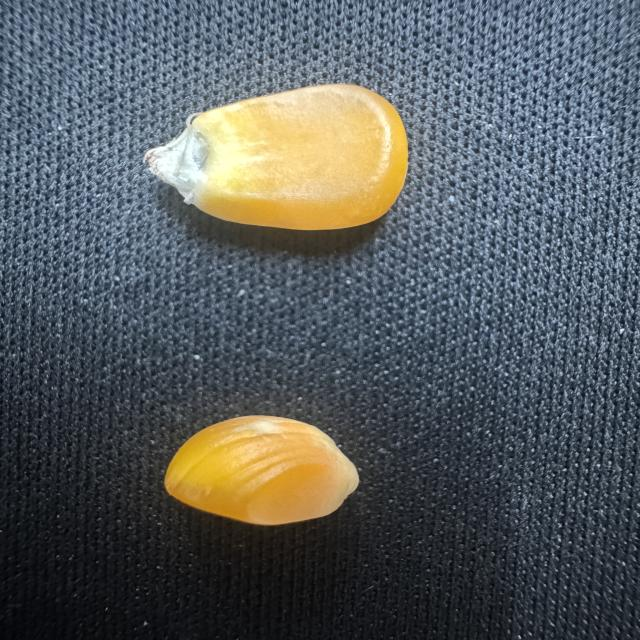Bad-Seed: (155, 408, 367, 545)
Good-Seed: (134, 73, 412, 233)
